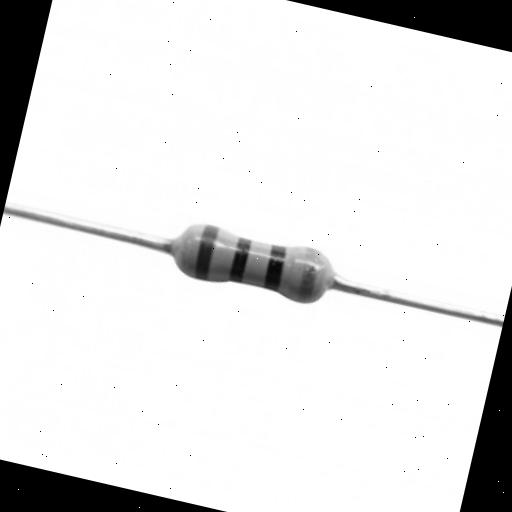RESISTOR: (82, 150, 404, 396)
